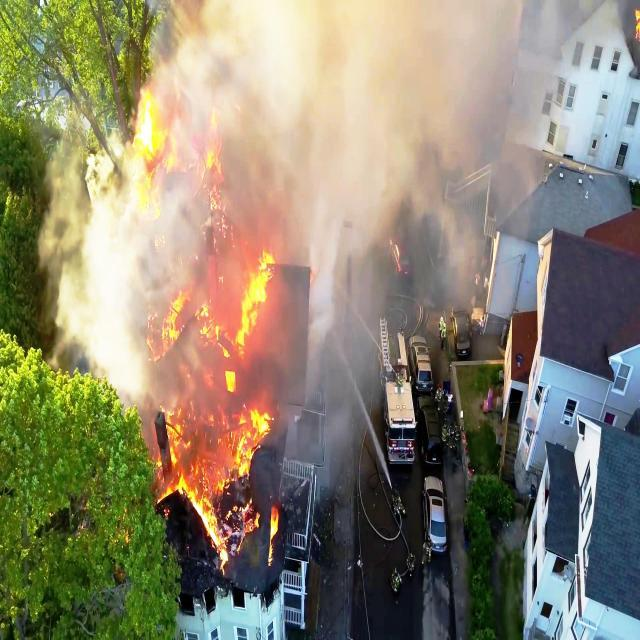Fire: (147, 249, 286, 572)
Smoke: (136, 3, 566, 208), (288, 204, 468, 460), (42, 150, 151, 408), (152, 211, 262, 265)
